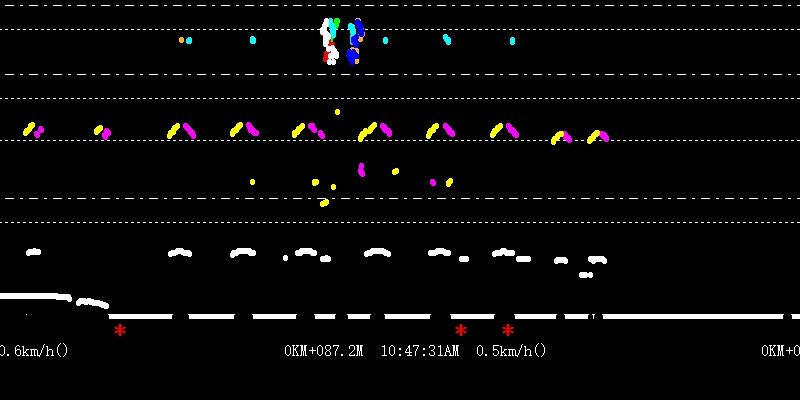J: (319, 1, 362, 63)
face_down: (441, 23, 451, 46)
star: (499, 322, 516, 341), (452, 322, 471, 336), (111, 320, 126, 337)
y_p: (150, 115, 533, 272)
